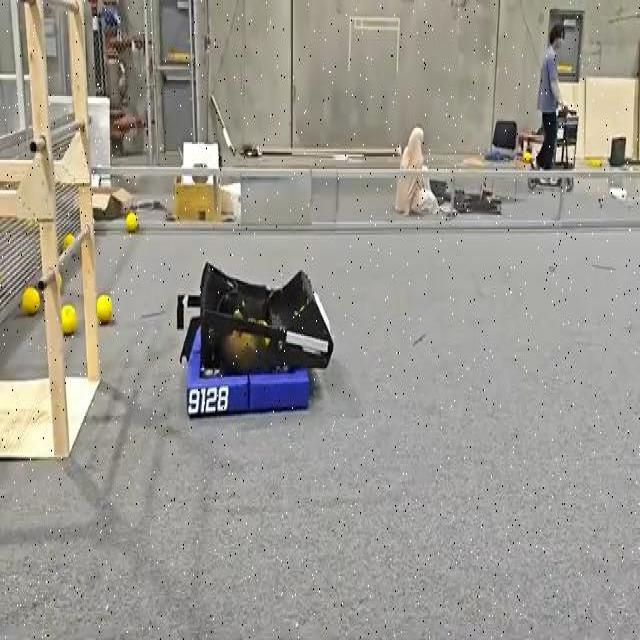Fuel: (22, 286, 41, 315), (22, 287, 40, 315), (60, 305, 77, 334), (61, 304, 76, 334), (96, 294, 112, 322), (96, 295, 112, 322), (125, 211, 139, 233), (62, 233, 73, 249)
